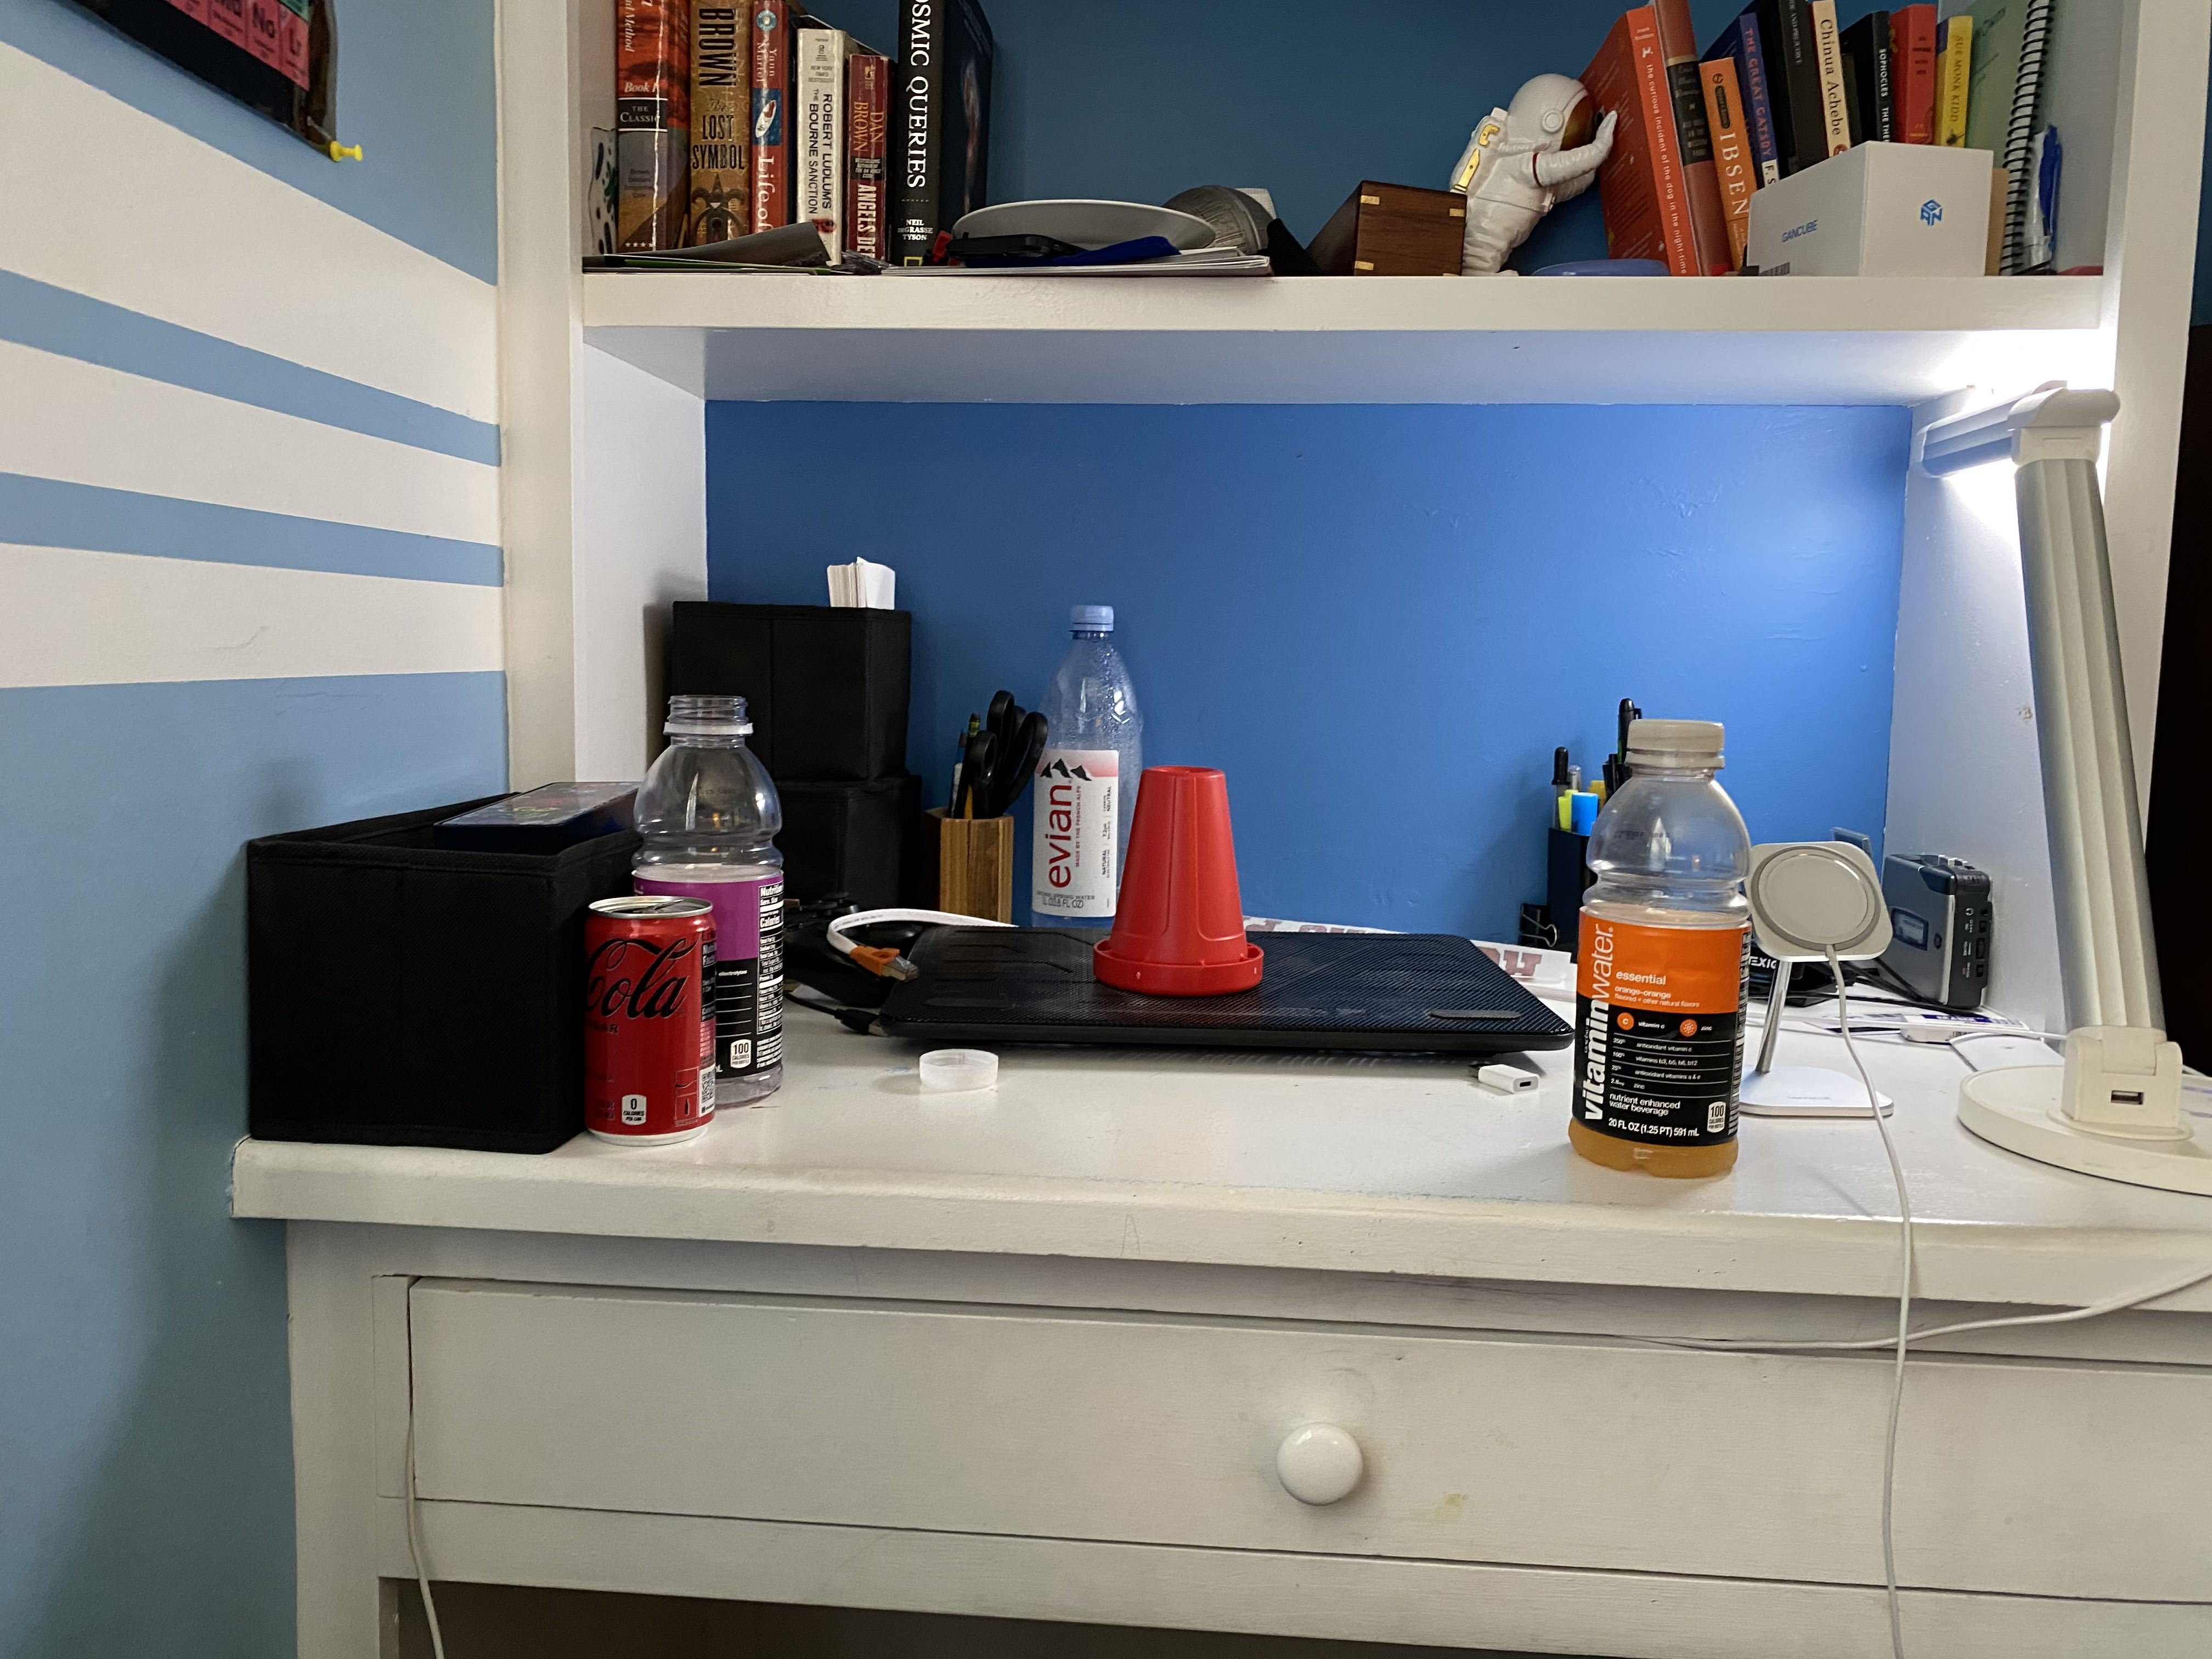redCone: (1083, 760, 1266, 1000)
